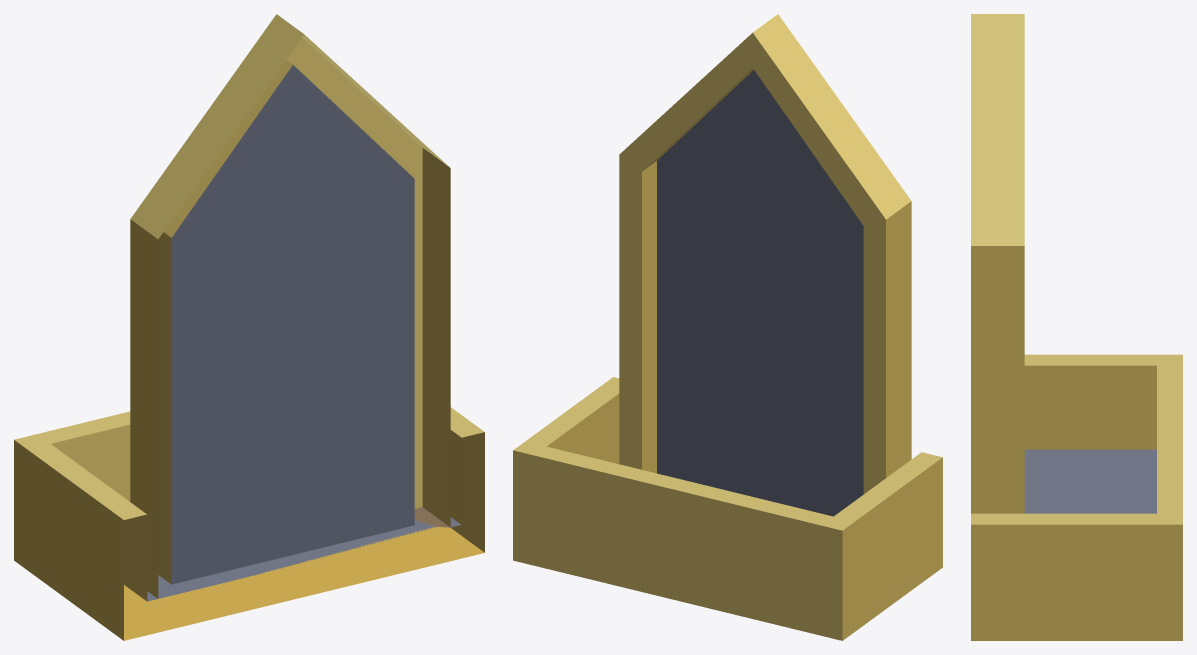
Rendered from squidgame_props_platform_decoration1_yellow.fbx.
3 renders of one model, left to right at view 1: azimuth 30°, elevation 25°; view 2: azimuth 150°, elevation 25°; view 3: azimuth 270°, elevation 25°, orthographic. The views are drawn at different scales.
Visible parts, largest first — view 1: squidgame_props_platform_decoration1_yellow; view 2: squidgame_props_platform_decoration1_yellow; view 3: squidgame_props_platform_decoration1_yellow.
Boxes of the visible parts, x1=… form: squidgame_props_platform_decoration1_yellow: x1=14, y1=14, x2=484, y2=640; squidgame_props_platform_decoration1_yellow: x1=513, y1=14, x2=942, y2=640; squidgame_props_platform_decoration1_yellow: x1=971, y1=14, x2=1182, y2=640.
Size of the model in its own units: 2 by 2.98 by 1.05.
